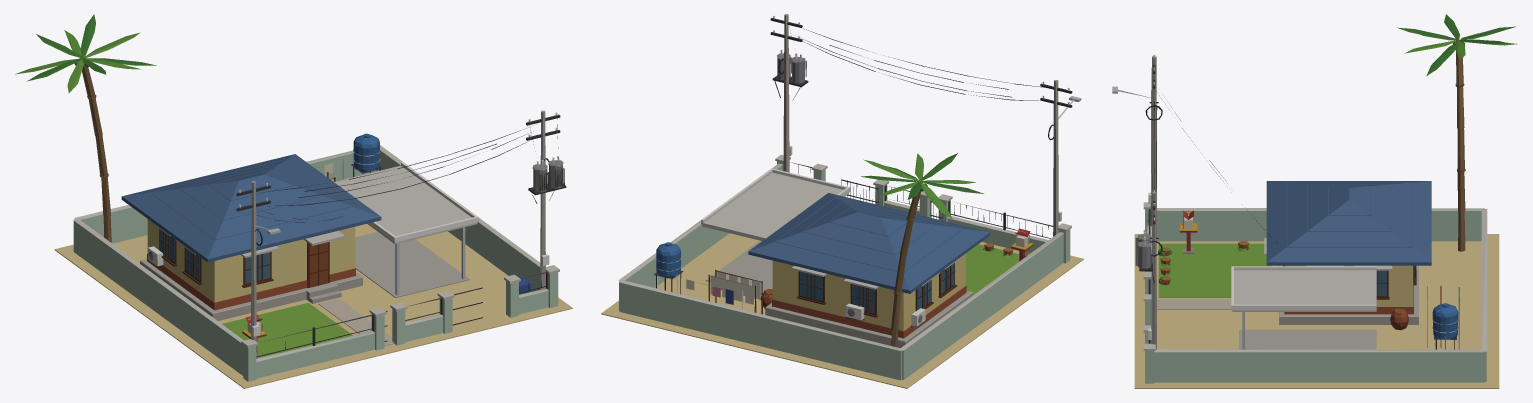
The model's file is home_1.glb.
The picture shows the model from 3 angles, left to right: view 1: azimuth 30°, elevation 25°; view 2: azimuth 150°, elevation 25°; view 3: azimuth 270°, elevation 25°; orthographic projection. The views are drawn at different scales.
Visible parts, largest first — view 1: body, windows; view 2: body, windows; view 3: body.
Boxes of the visible parts, bbox=[...] form: body: bbox=[15, 14, 572, 388]; windows: bbox=[160, 229, 270, 283]; body: bbox=[601, 14, 1083, 388]; windows: bbox=[800, 263, 954, 313]; body: bbox=[1112, 14, 1517, 388].
Size of the model in its own units: 18.61 by 10.52 by 17.71.
